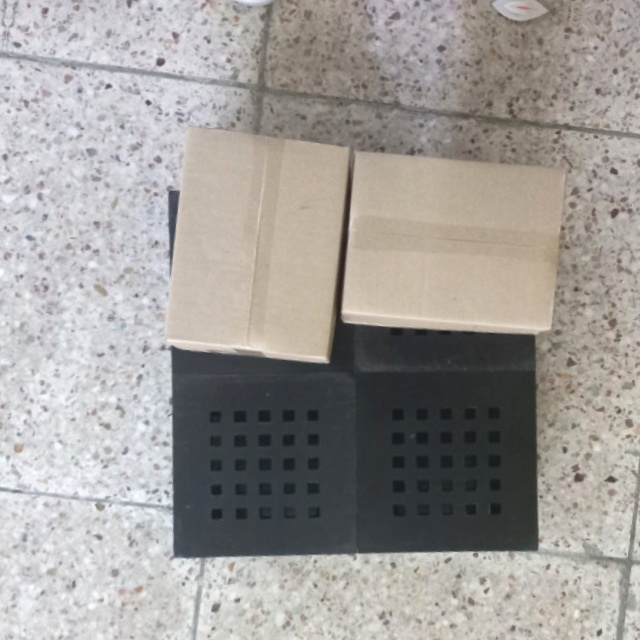box: (158, 126, 357, 370), (333, 146, 572, 335)
